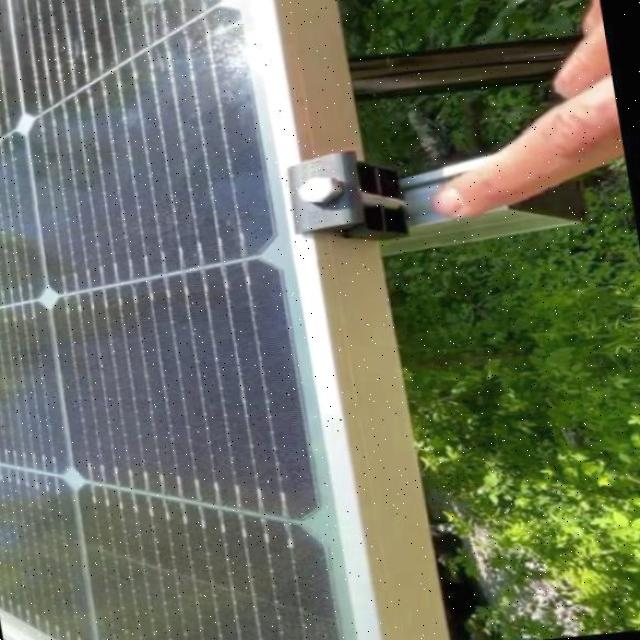Normal Solar Panel: (0, 0, 344, 640)
